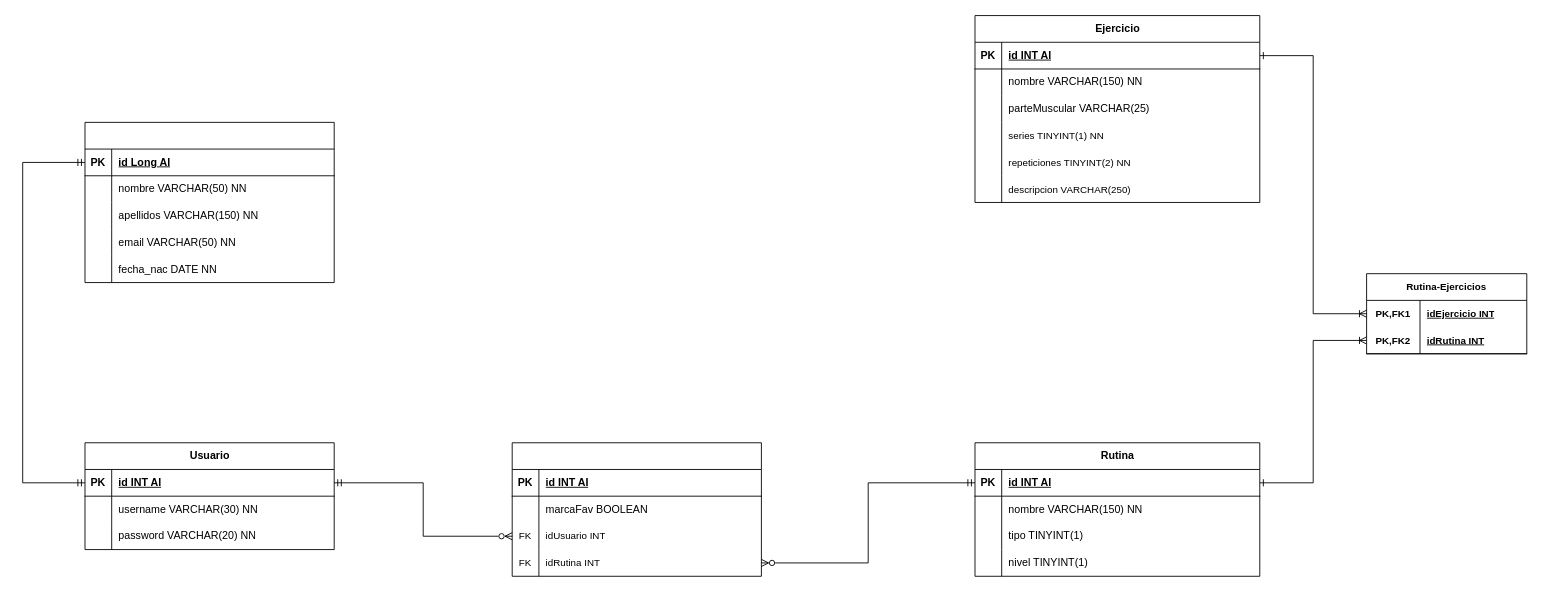
Some shapes in this 1542 by 592 pixel diagram are drawn without their labels. Each missing label, with the box of its shape:
Datos Usuario: (84, 121, 334, 283)
Rutinas-Usuario: (511, 442, 761, 576)
